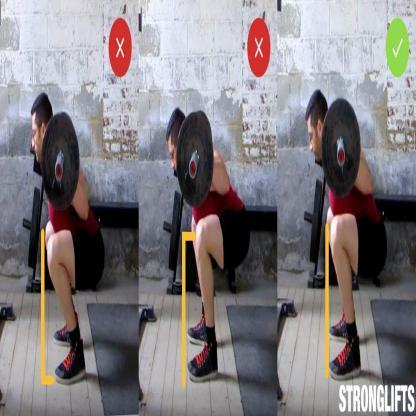barbell: (318, 97, 363, 200), (38, 110, 81, 211), (174, 109, 214, 209)
